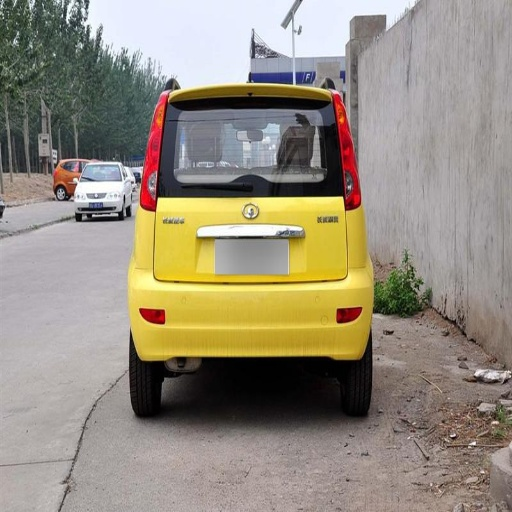back_bumper: (134, 211, 372, 356)
trunk: (136, 179, 353, 283)
